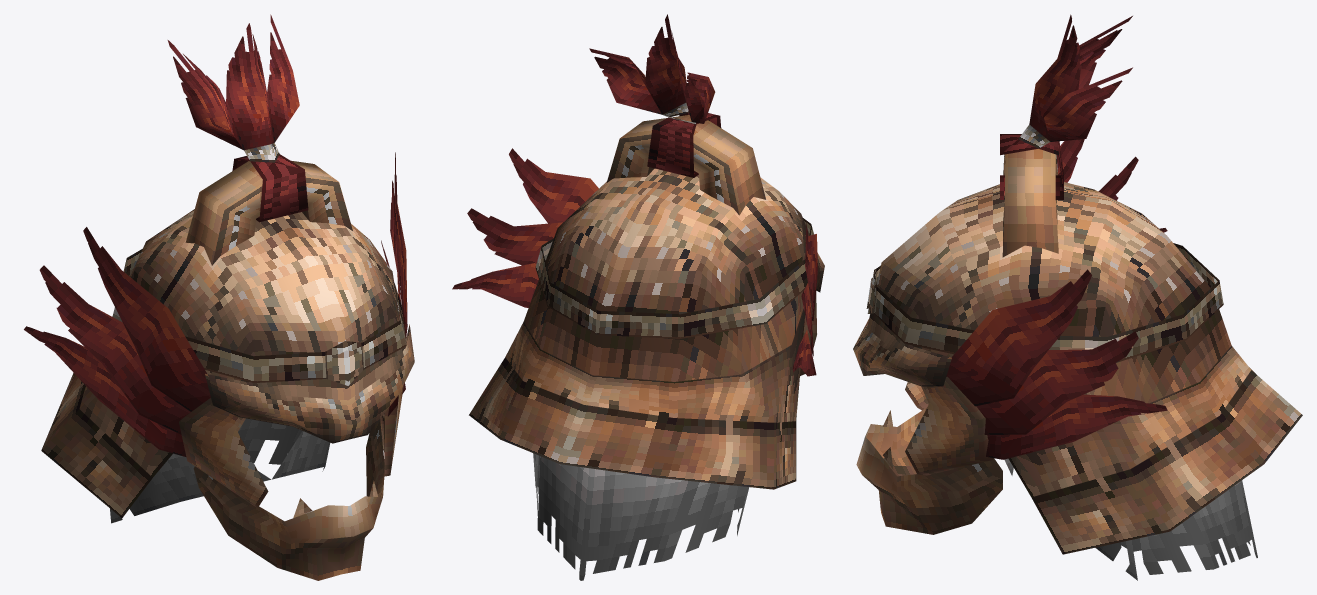
Rendered from m_hair124.glb.
The picture shows the model from 3 angles, left to right: view 1: azimuth 30°, elevation 25°; view 2: azimuth 150°, elevation 25°; view 3: azimuth 270°, elevation 25°; orthographic projection. The views are drawn at different scales.
Size of the model in its own units: 28.08 by 38.86 by 29.14.
Materials: 1 (1 with a texture image).
